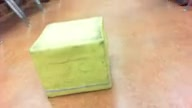cube: (29, 16, 112, 97)
